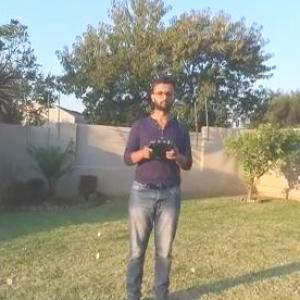follow: (115, 73, 198, 299)
